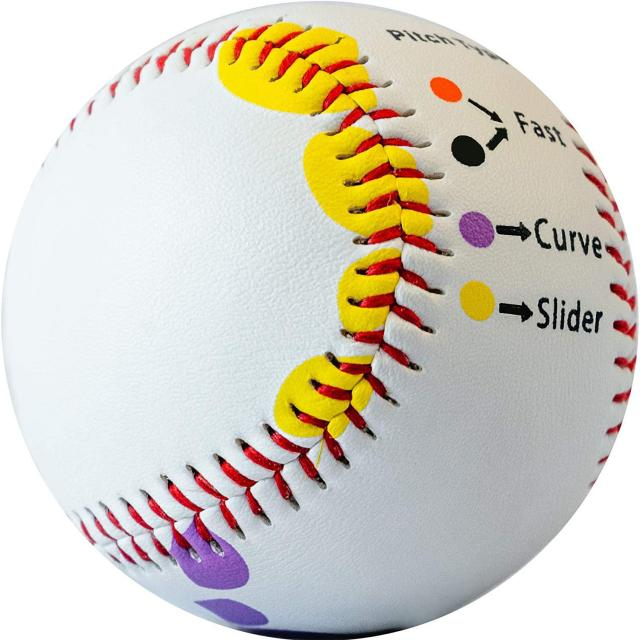baseball: (4, 3, 635, 615)
